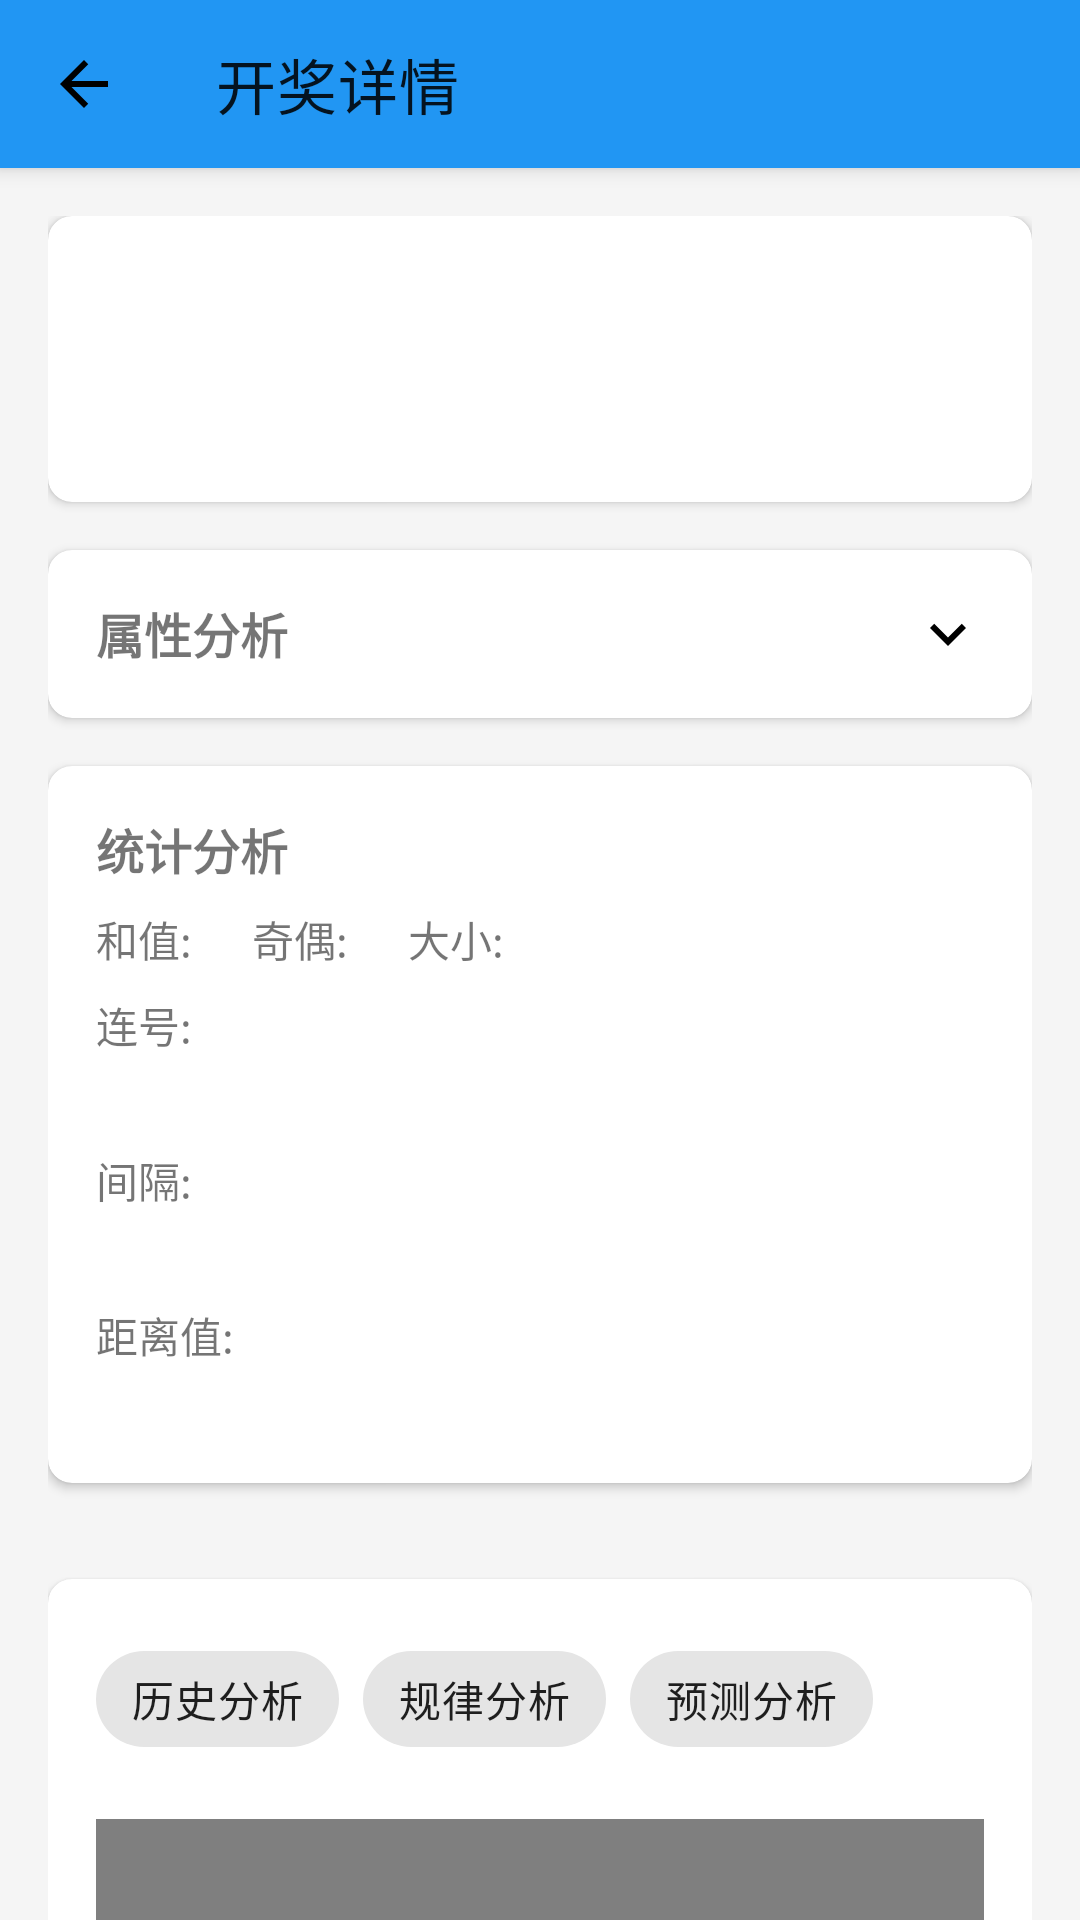

Icon bounding boxes for this 1080*1920 phone screenshot, format region(x1, y1, x2, y2):
expand more: region(930, 624, 966, 646)
